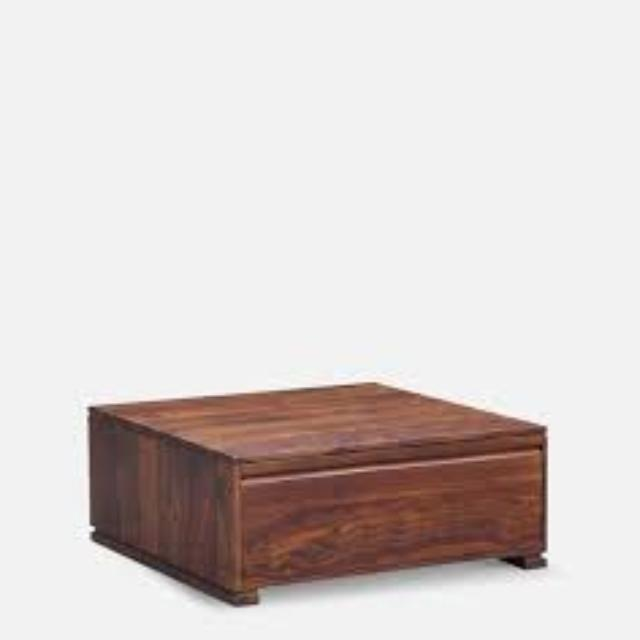obstacle: (74, 331, 580, 597), (638, 331, 640, 597)
